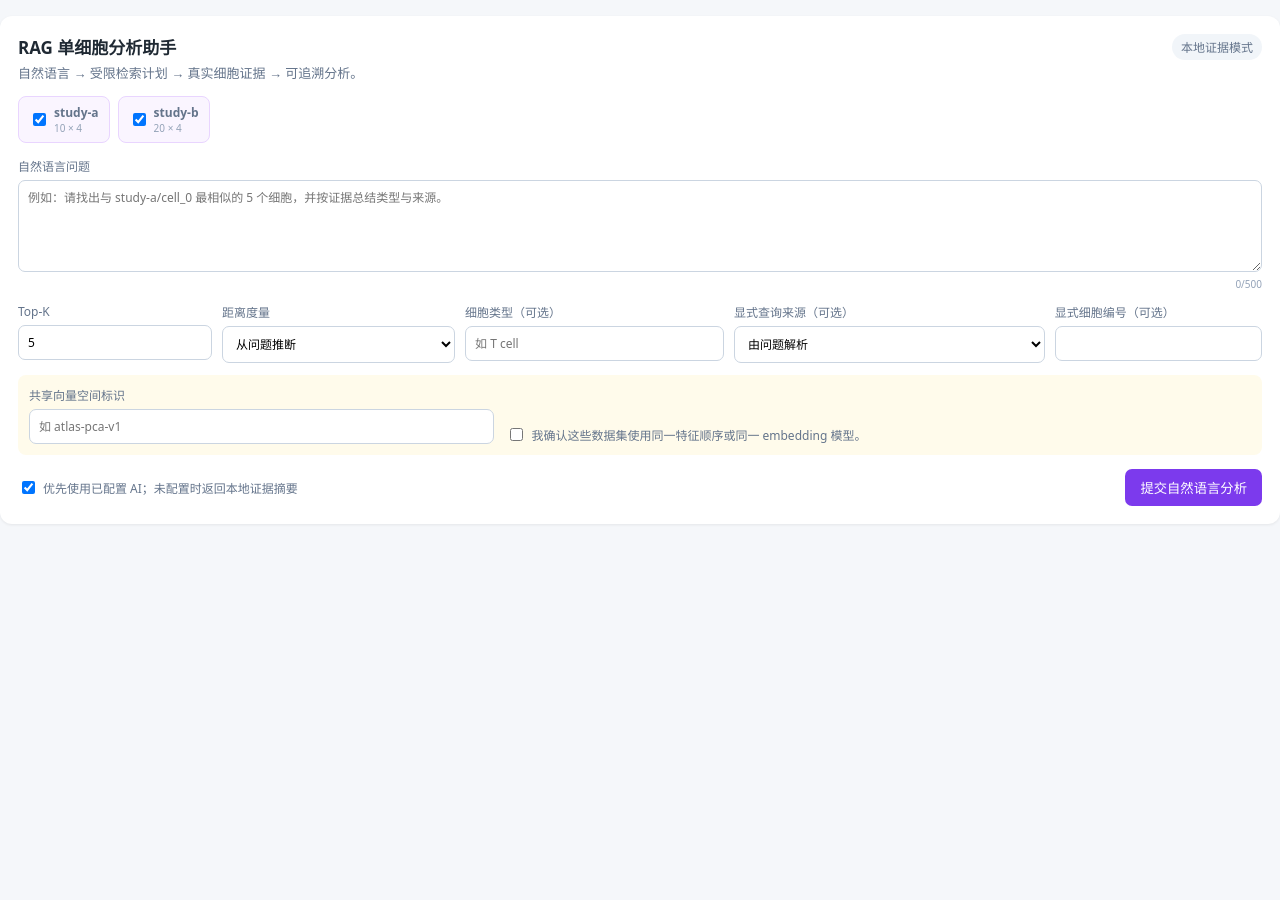
Test: CellAssistant › submits a bounded shared-space question and renders grounded evidence
The width and height of the screenshot is (1280, 900).
Type "请找出与 study-a/a0 最相似的细胞。" into the text box labelled "自然语言问题 0/500" at (640, 226), box [18, 180, 1262, 272]
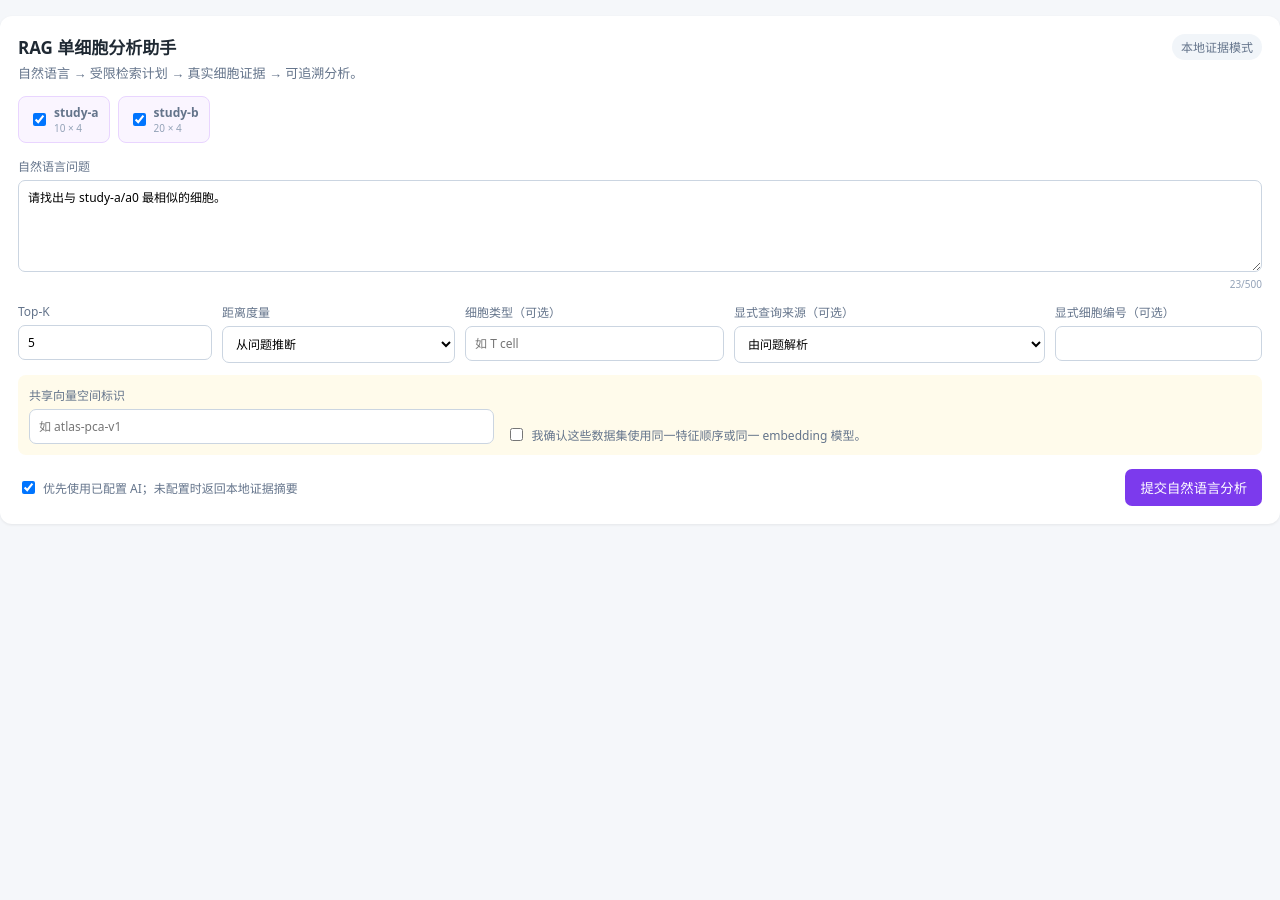
Type "atlas-pca-v1" into the field labelled "共享向量空间标识" at (262, 426), box [29, 409, 494, 444]
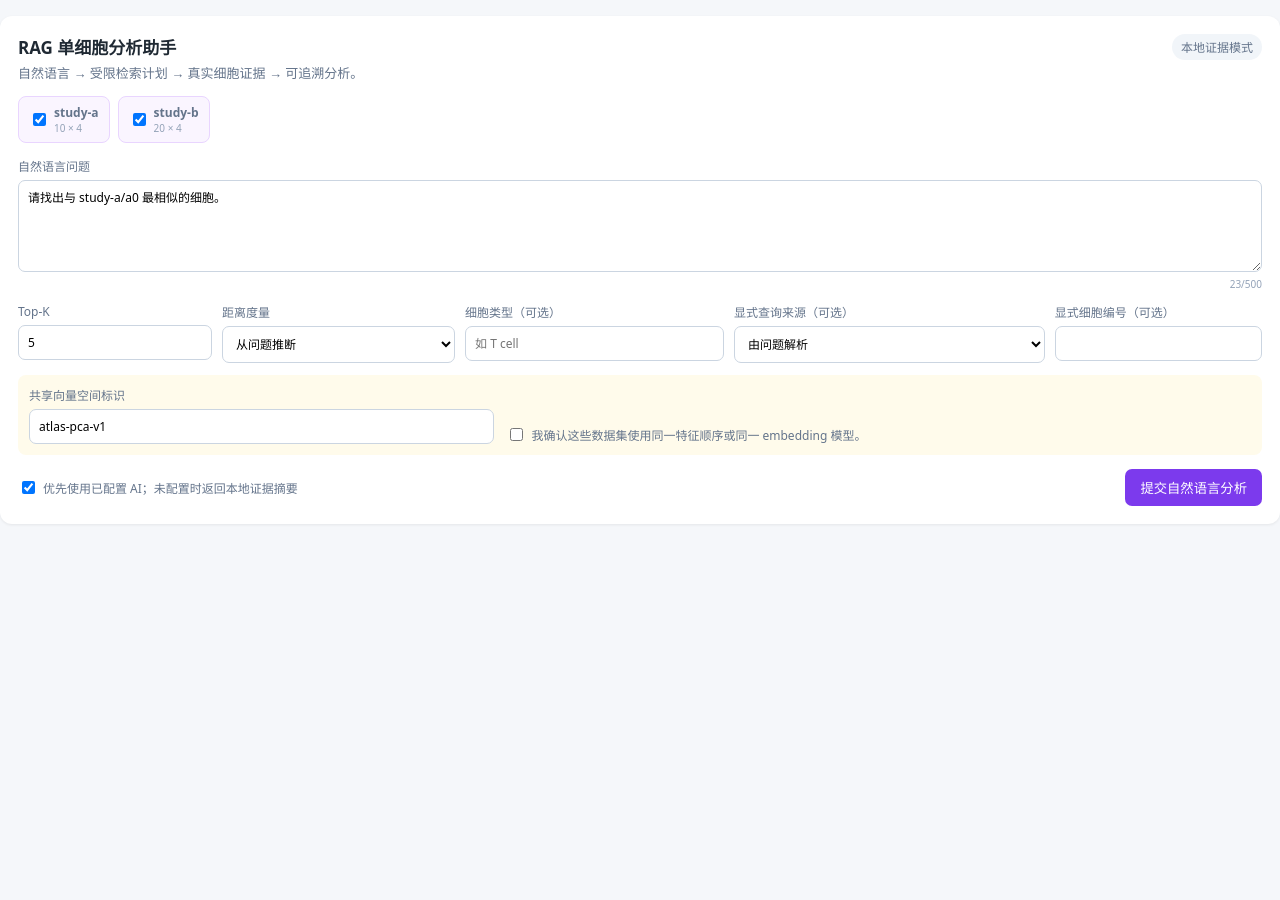
Click the checkbox labelled "我确认这些数据集使用同一特征顺序或同一 embedding 模型。" at (517, 434), box [510, 428, 523, 441]
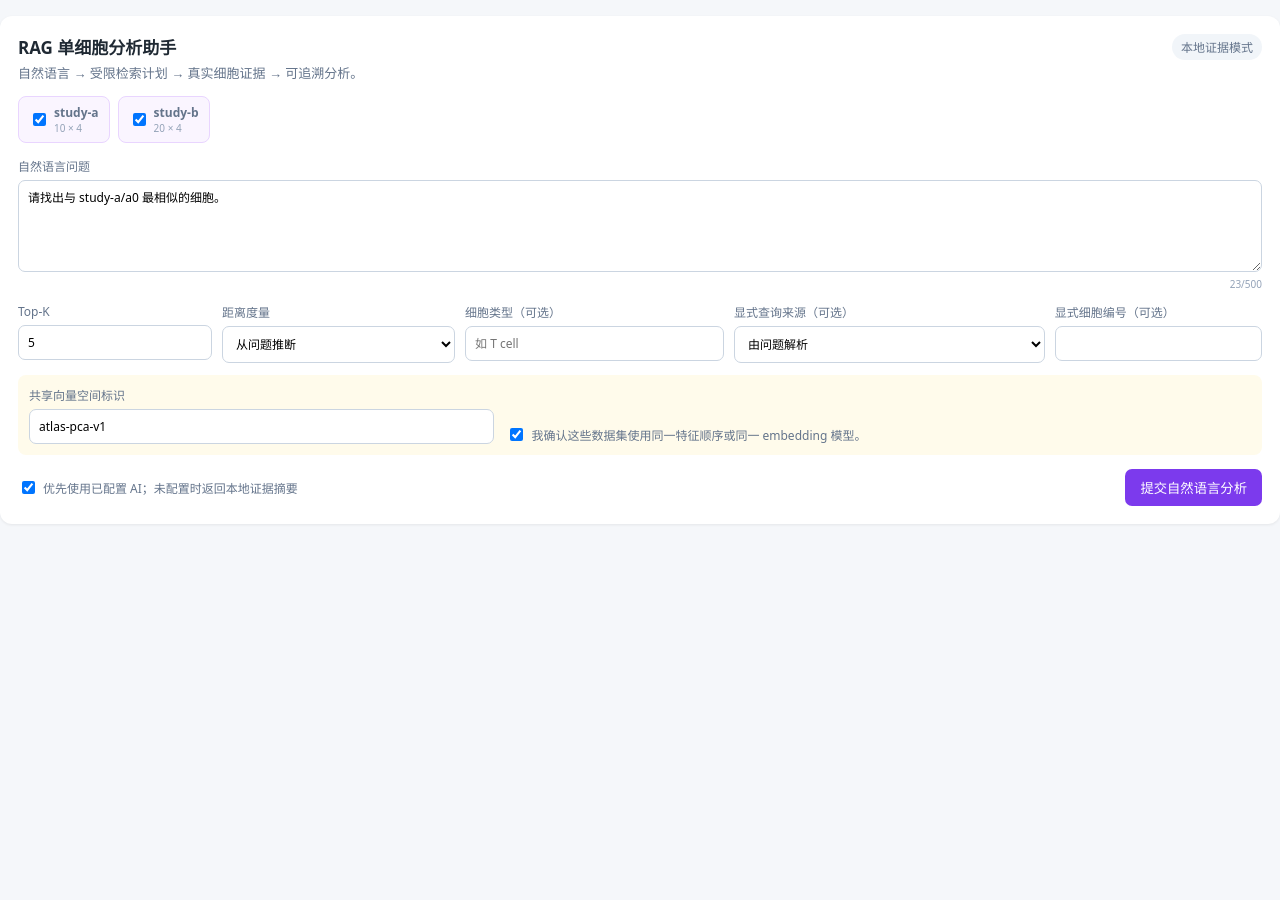
Click the button "提交自然语言分析" at (1194, 488), box [1125, 469, 1262, 506]
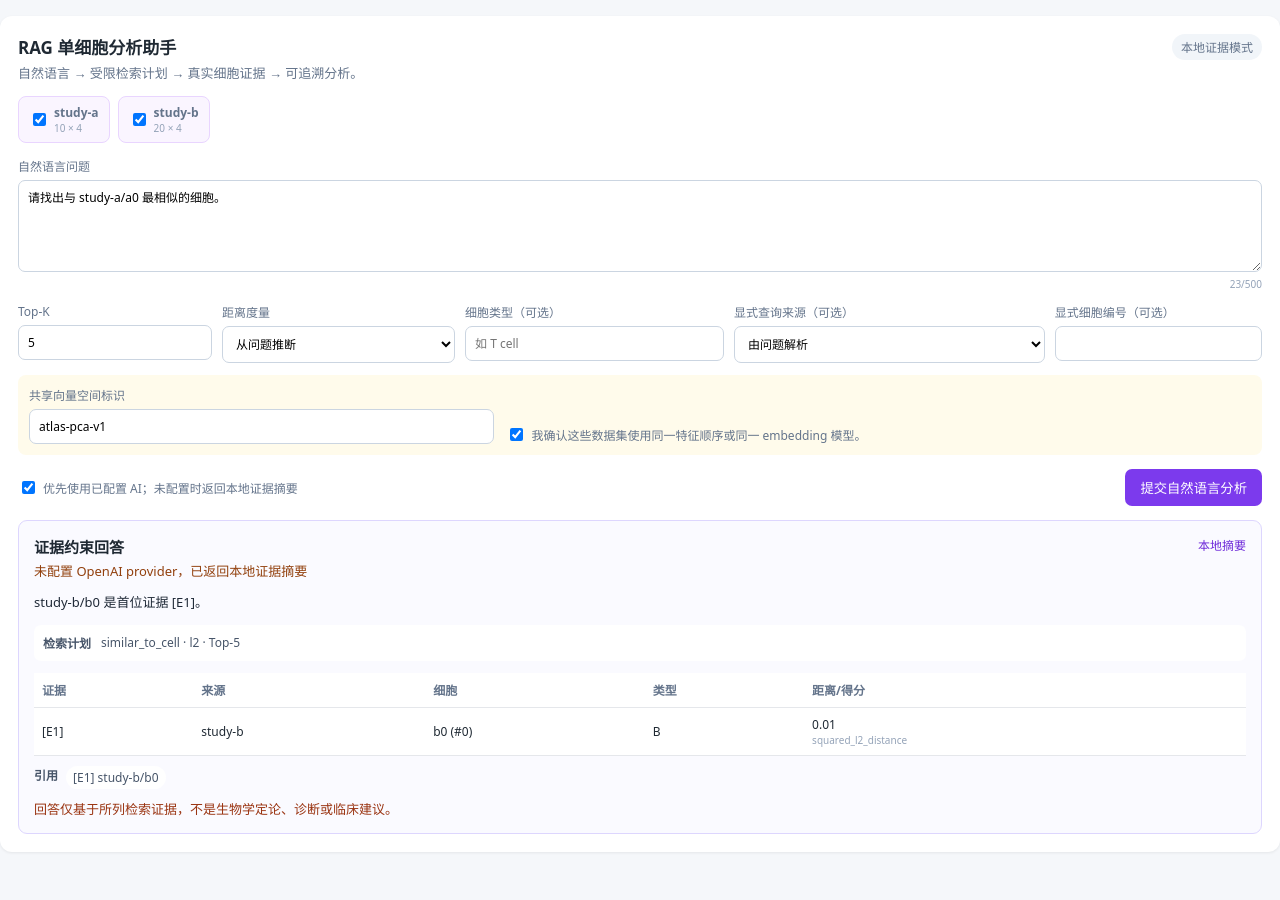
Now the text "证据约束回答" is shown, box [34, 536, 124, 557]
Now the text "study-b/b0 是首位证据 [E1]" is shown, box [34, 593, 208, 611]
Now the text "squared_l2_distance" is shown, box [812, 733, 907, 747]
